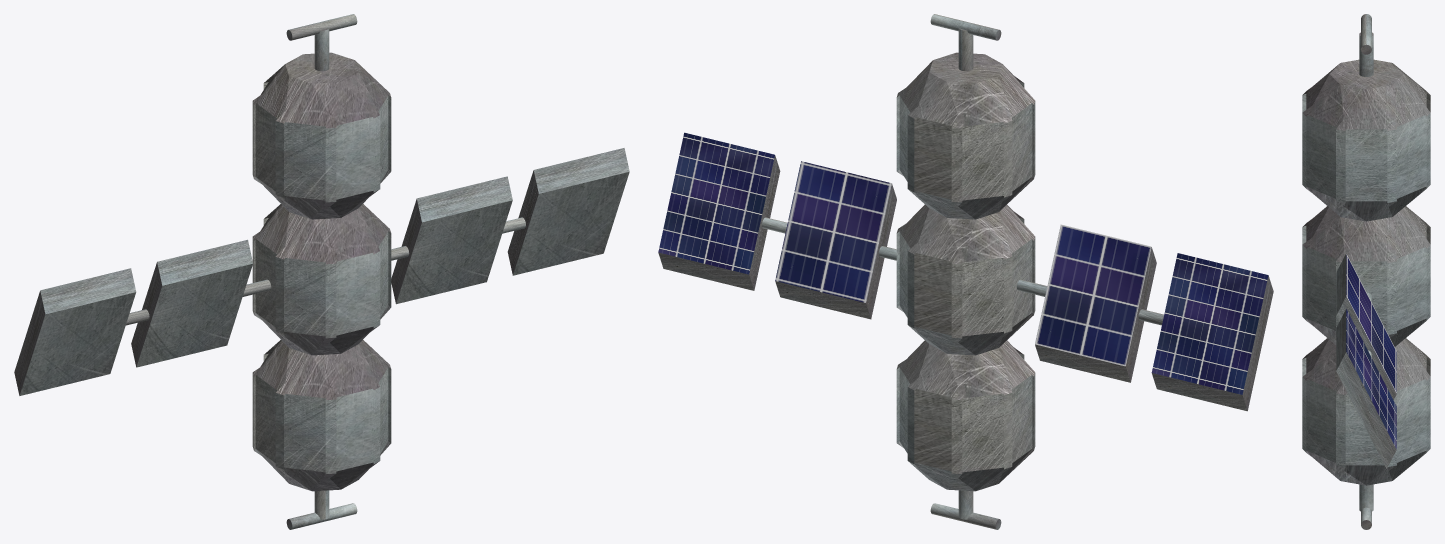
The model's file is satelite2.fbx.
3 renders of one model, left to right at view 1: azimuth 30°, elevation 25°; view 2: azimuth 150°, elevation 25°; view 3: azimuth 270°, elevation 25°, orthographic. The views are drawn at different scales.
Parts seen in each view (by area): view 1: Cylinder.006; view 2: Cylinder.006; view 3: Cylinder.006.
Part boxes in pixels (bbox=[...]): Cylinder.006: bbox=[14, 14, 629, 529]; Cylinder.006: bbox=[658, 14, 1273, 529]; Cylinder.006: bbox=[1302, 14, 1430, 529].
Bounding box in the file's own units: 900 × 735 × 176.
8 materials, 8 textured.
